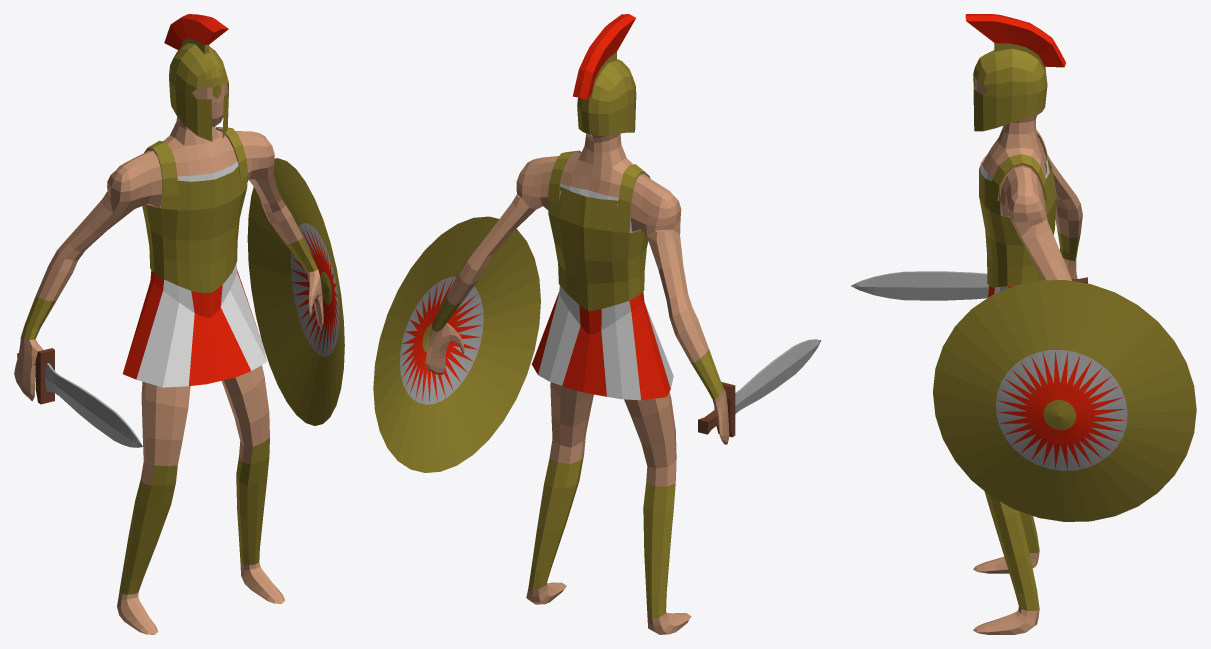
The model's file is ReguarEra1.fbx.
3 views of the same model, side by side, from view 1: azimuth 30°, elevation 25°; view 2: azimuth 150°, elevation 25°; view 3: azimuth 270°, elevation 25° (orthographic).
Visible parts, largest first — view 1: Corps, Bouclier3, Armure, Tunique, Jambes_armure, Tunique.001, Casque, Xiphos_manche, Pieds, Mains, Crête, Bretelle_Armure (+1 smaller); view 2: Bouclier3, Corps, Armure, Jambes_armure, Tunique, Tunique.001, Casque, Xiphos_manche, Crête, Mains, Bretelle_Armure, Pieds (+1 smaller); view 3: Bouclier3, Corps, Casque, Armure, Xiphos_manche, Jambes_armure, Crête, Pieds, Bretelle_Armure.
Boxes of the visible parts, <box> form: Corps: <box>36,81,302,485</box>; Bouclier3: <box>247,158,344,425</box>; Armure: <box>142,165,247,292</box>; Tunique: <box>136,127,266,387</box>; Jambes_armure: <box>119,437,269,594</box>; Tunique.001: <box>122,269,259,386</box>; Casque: <box>169,38,228,141</box>; Xiphos_manche: <box>17,348,142,447</box>; Pieds: <box>117,561,285,634</box>; Mains: <box>14,270,323,401</box>; Crête: <box>164,14,228,50</box>; Bretelle_Armure: <box>144,127,248,195</box>; Bouclier3: <box>373,216,540,472</box>; Corps: <box>446,133,708,486</box>; Armure: <box>548,187,648,311</box>; Jambes_armure: <box>528,455,675,618</box>; Tunique: <box>538,150,673,400</box>; Tunique.001: <box>531,292,670,400</box>; Casque: <box>577,52,636,135</box>; Xiphos_manche: <box>698,339,821,437</box>; Crête: <box>572,14,635,99</box>; Mains: <box>425,323,729,444</box>; Bretelle_Armure: <box>547,150,650,218</box>; Pieds: <box>526,582,691,634</box>; Bouclier3: <box>933,280,1196,521</box>; Corps: <box>974,78,1082,280</box>; Casque: <box>973,43,1047,131</box>; Armure: <box>979,157,1056,287</box>; Xiphos_manche: <box>851,271,1087,300</box>; Jambes_armure: <box>984,491,1039,610</box>; Crête: <box>965,14,1065,67</box>; Pieds: <box>973,551,1039,634</box>; Bretelle_Armure: <box>990,133,1048,201</box>.
Bounding box in the file's own units: 350 × 651 × 349.
